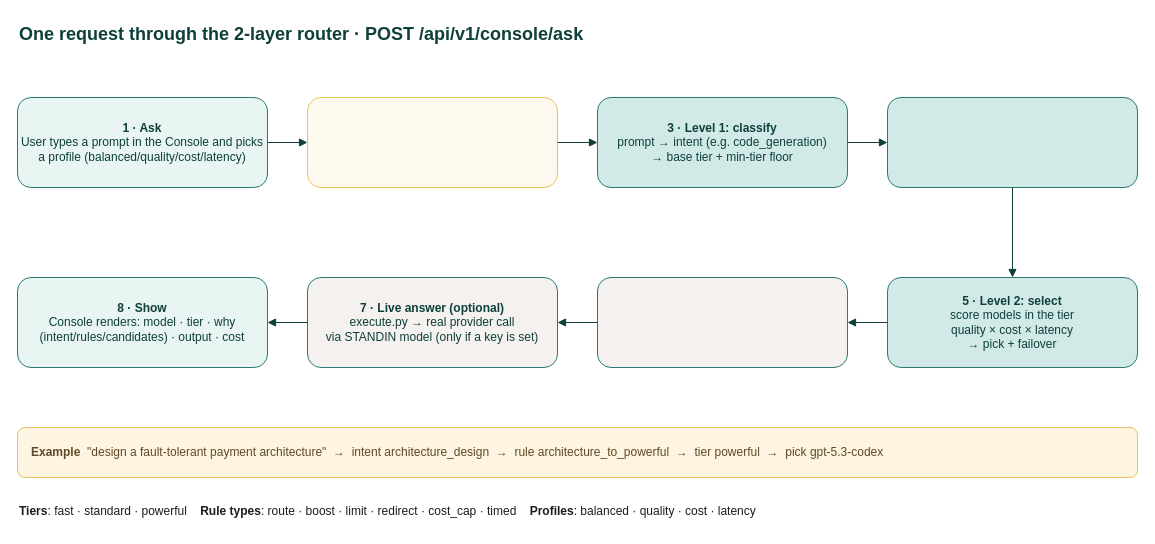
Some shapes in this 1155 by 544 pixel diagram are drawn without their labels. Here are the shapes that lost their labels. From the top down, the centre of each, then its label:
At point 432,142: "2 · Call POST /api/v1/console/ask { prompt, profile, … }".
At point 1012,142: "4 · Level 1: rules apply matching rules by priority → final tier".
At point 722,322: "6 · Estimate sim.py → cost / latency / value (deterministic, no network)".
